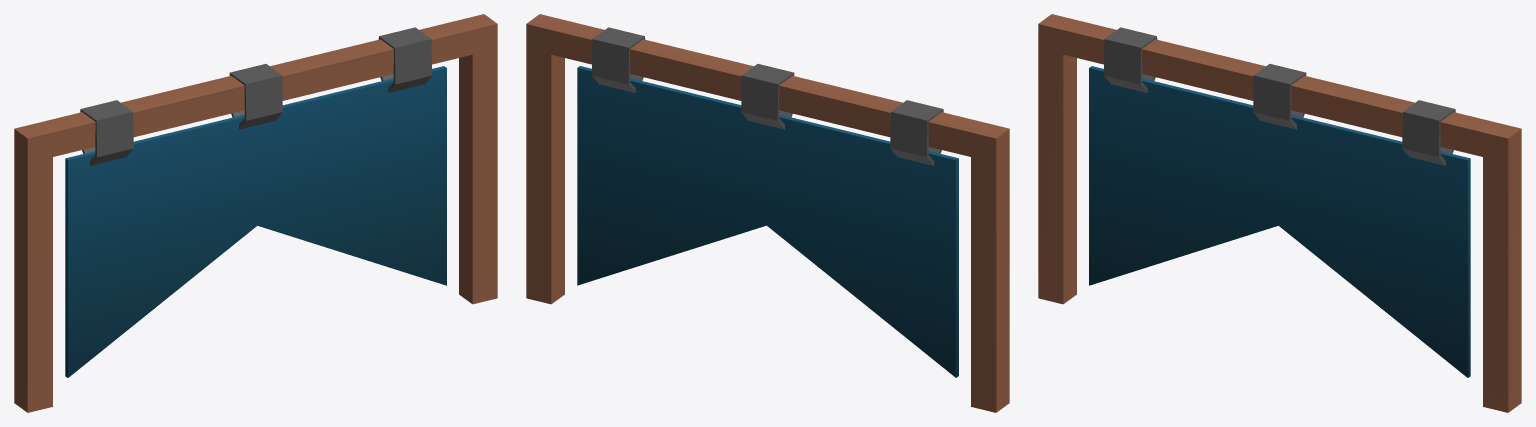
File: StandBarrier_2.fbx
The picture shows the model from 3 angles, left to right: view 1: azimuth 30°, elevation 25°; view 2: azimuth 150°, elevation 25°; view 3: azimuth 330°, elevation 25°; orthographic projection.
Visible parts, largest first — view 1: StandBarrier_2; view 2: StandBarrier_2; view 3: StandBarrier_2.
Part boxes in pixels (<box>): StandBarrier_2: <box>14,14,497,412</box>; StandBarrier_2: <box>526,14,1009,412</box>; StandBarrier_2: <box>1038,14,1521,412</box>.
Bounding box in the file's own units: 233 × 131 × 14.83.
